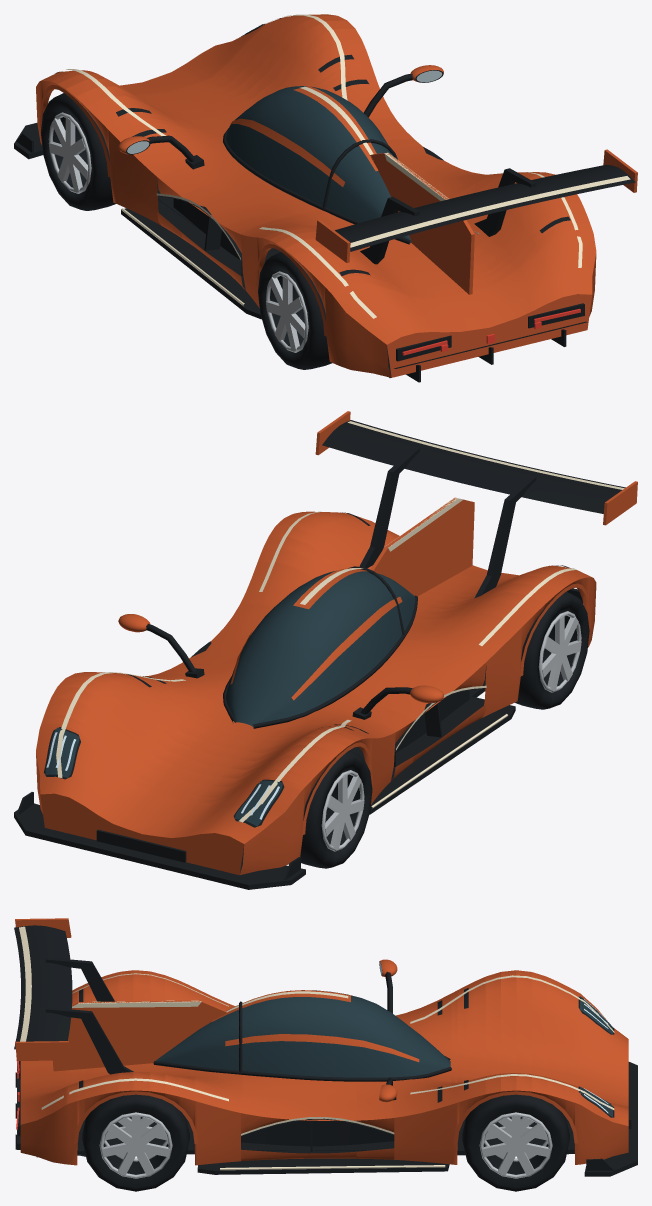
Rendered from prototype-low.glb.
The picture shows the model from 3 angles, top to bottom: view 1: azimuth 30°, elevation 25°; view 2: azimuth 150°, elevation 25°; view 3: azimuth 270°, elevation 25°; orthographic projection. The views are drawn at different scales.
Parts seen in each view (by area): view 1: body_paint, body_carbon, body_glass, wheel_carbon (×2), body_accent, wheel_rim (×2), body_rearLights; view 2: body_paint, body_carbon, body_glass, wheel_carbon (×2), body_accent, wheel_rim (×2); view 3: body_paint, body_carbon, body_glass, wheel_carbon (×2), wheel_rim (×2), body_accent.
Boxes of the visible parts, x1,y1,x2,y2 form: body_paint: (36,14,637,377); body_carbon: (14,18,635,382); body_glass: (226,24,411,243); wheel_carbon (×2): (40,93,332,369); body_accent: (66,14,630,318); wheel_rim (×2): (48,112,308,352); body_rearLights: (402,308,580,355); body_paint: (36,411,637,875); body_carbon: (14,420,625,889); body_glass: (45,570,415,826); wheel_carbon (×2): (300,591,589,868); body_accent: (56,421,624,822); wheel_rim (×2): (321,611,581,851); body_paint: (15,918,628,1165); body_carbon: (14,925,637,1176); body_glass: (155,990,612,1117); wheel_carbon (×2): (82,1094,569,1191); wheel_rim (×2): (99,1112,552,1178); body_accent: (19,926,614,1170).
Bounding box in the file's own units: 1.25 × 0.656 × 2.38.
